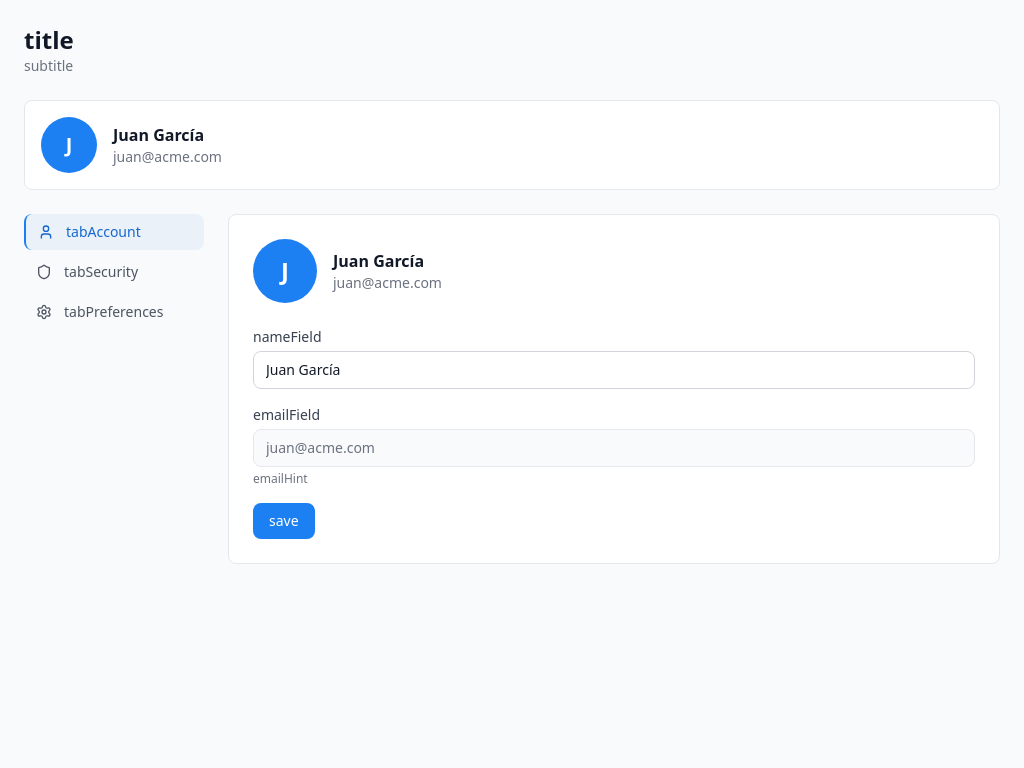
Test: ProfilePage › sección MFA muestra botón Activar cuando mfaEnabled=false
Step 1. Click the button "tabSecurity" → [114, 272], box [24,254,204,290]
(page scrolled)
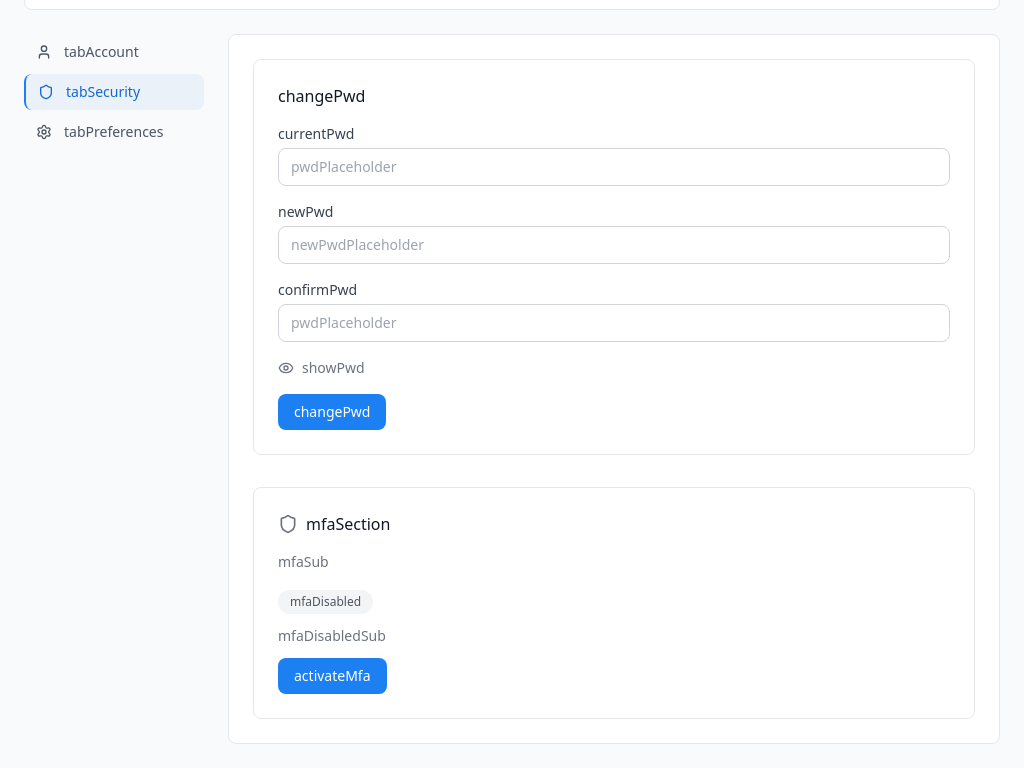
Check: the button "activateMfa" is shown, box [278,658,386,694]
Check: the text "mfaDisabled" is shown, box [278,590,373,614]
